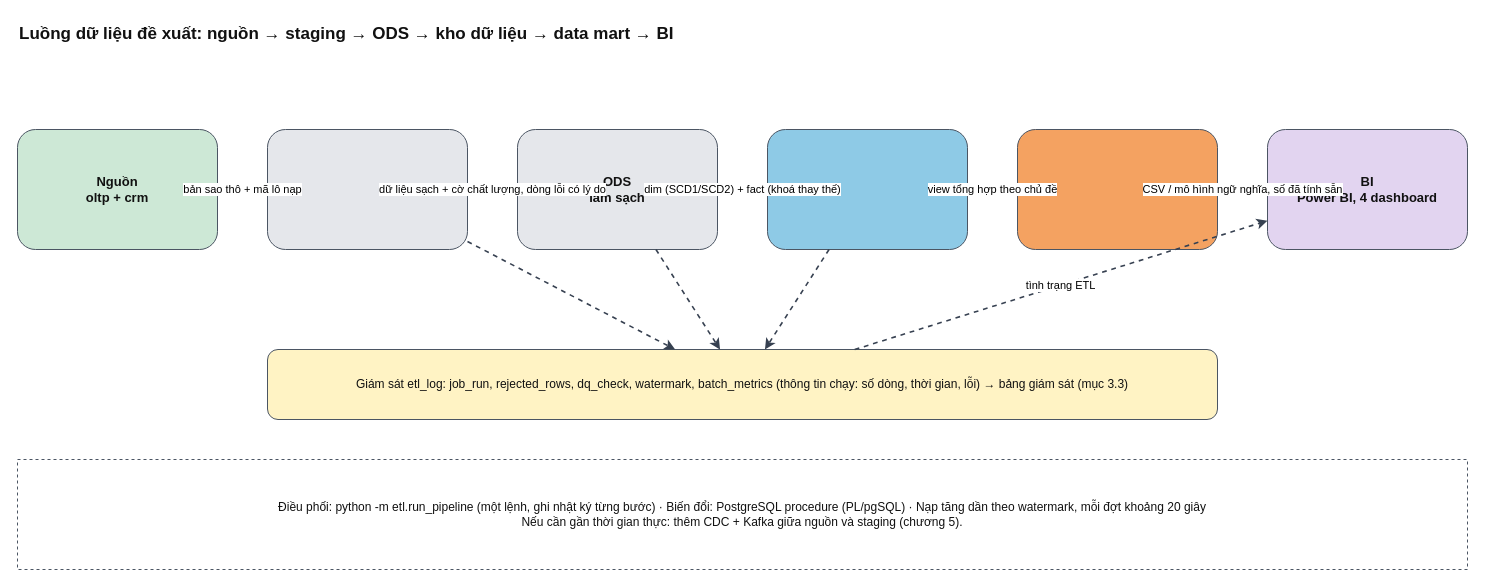
Image size: 1485x587. Some labels were removed from this diagram. Each missing label, with the centre of its shape:
"Data mart mart_* (17 view)" goes at pixel 1117 189.
"Kho dữ liệu dw 10 dim + 6 fact" goes at pixel 867 189.
"Staging stg_*" goes at pixel 367 189.
